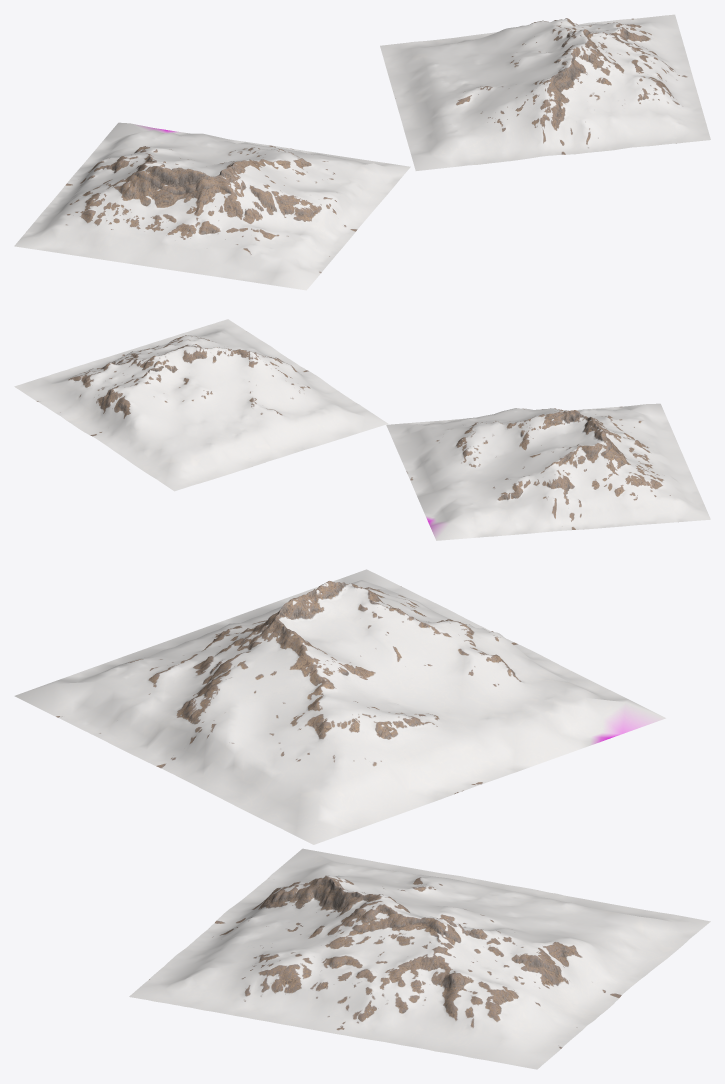
Rendered from snowy_mountain_terrain__optimized_mesh.glb.
3 renders of one model, top to bottom at view 1: azimuth 30°, elevation 25°; view 2: azimuth 150°, elevation 25°; view 3: azimuth 270°, elevation 25°, orthographic. The views are drawn at different scales.
Visible parts, largest first — view 1: SM_Mountain_C_1, SM_Mountain_A_1; view 2: SM_Mountain_C_1, SM_Mountain_A_1; view 3: SM_Mountain_C_1, SM_Mountain_A_1.
Part boxes in pixels (<box>): SM_Mountain_C_1: <box>14,122,410,290</box>; SM_Mountain_A_1: <box>380,14,710,170</box>; SM_Mountain_C_1: <box>386,403,710,540</box>; SM_Mountain_A_1: <box>14,319,388,491</box>; SM_Mountain_C_1: <box>14,569,665,844</box>; SM_Mountain_A_1: <box>129,848,710,1069</box>.
Bounding box in the file's own units: 4626 × 365 × 2608.
2 materials, 2 textured.
